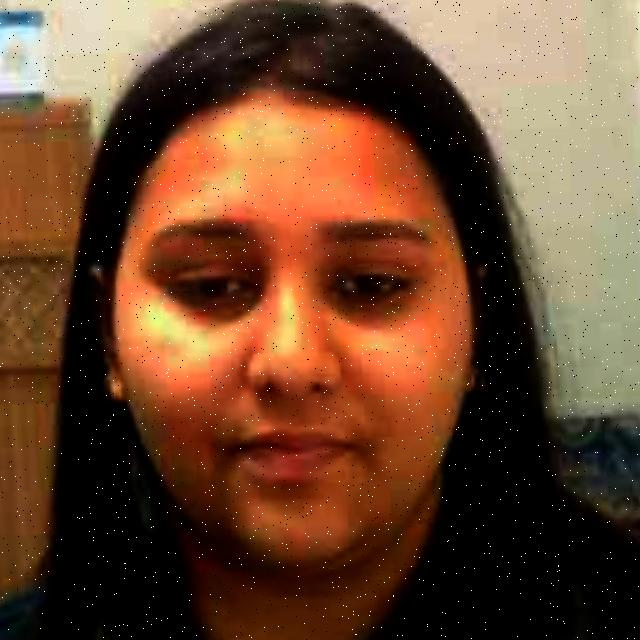puffy_eyes: (182, 286, 260, 322), (326, 293, 407, 324)
